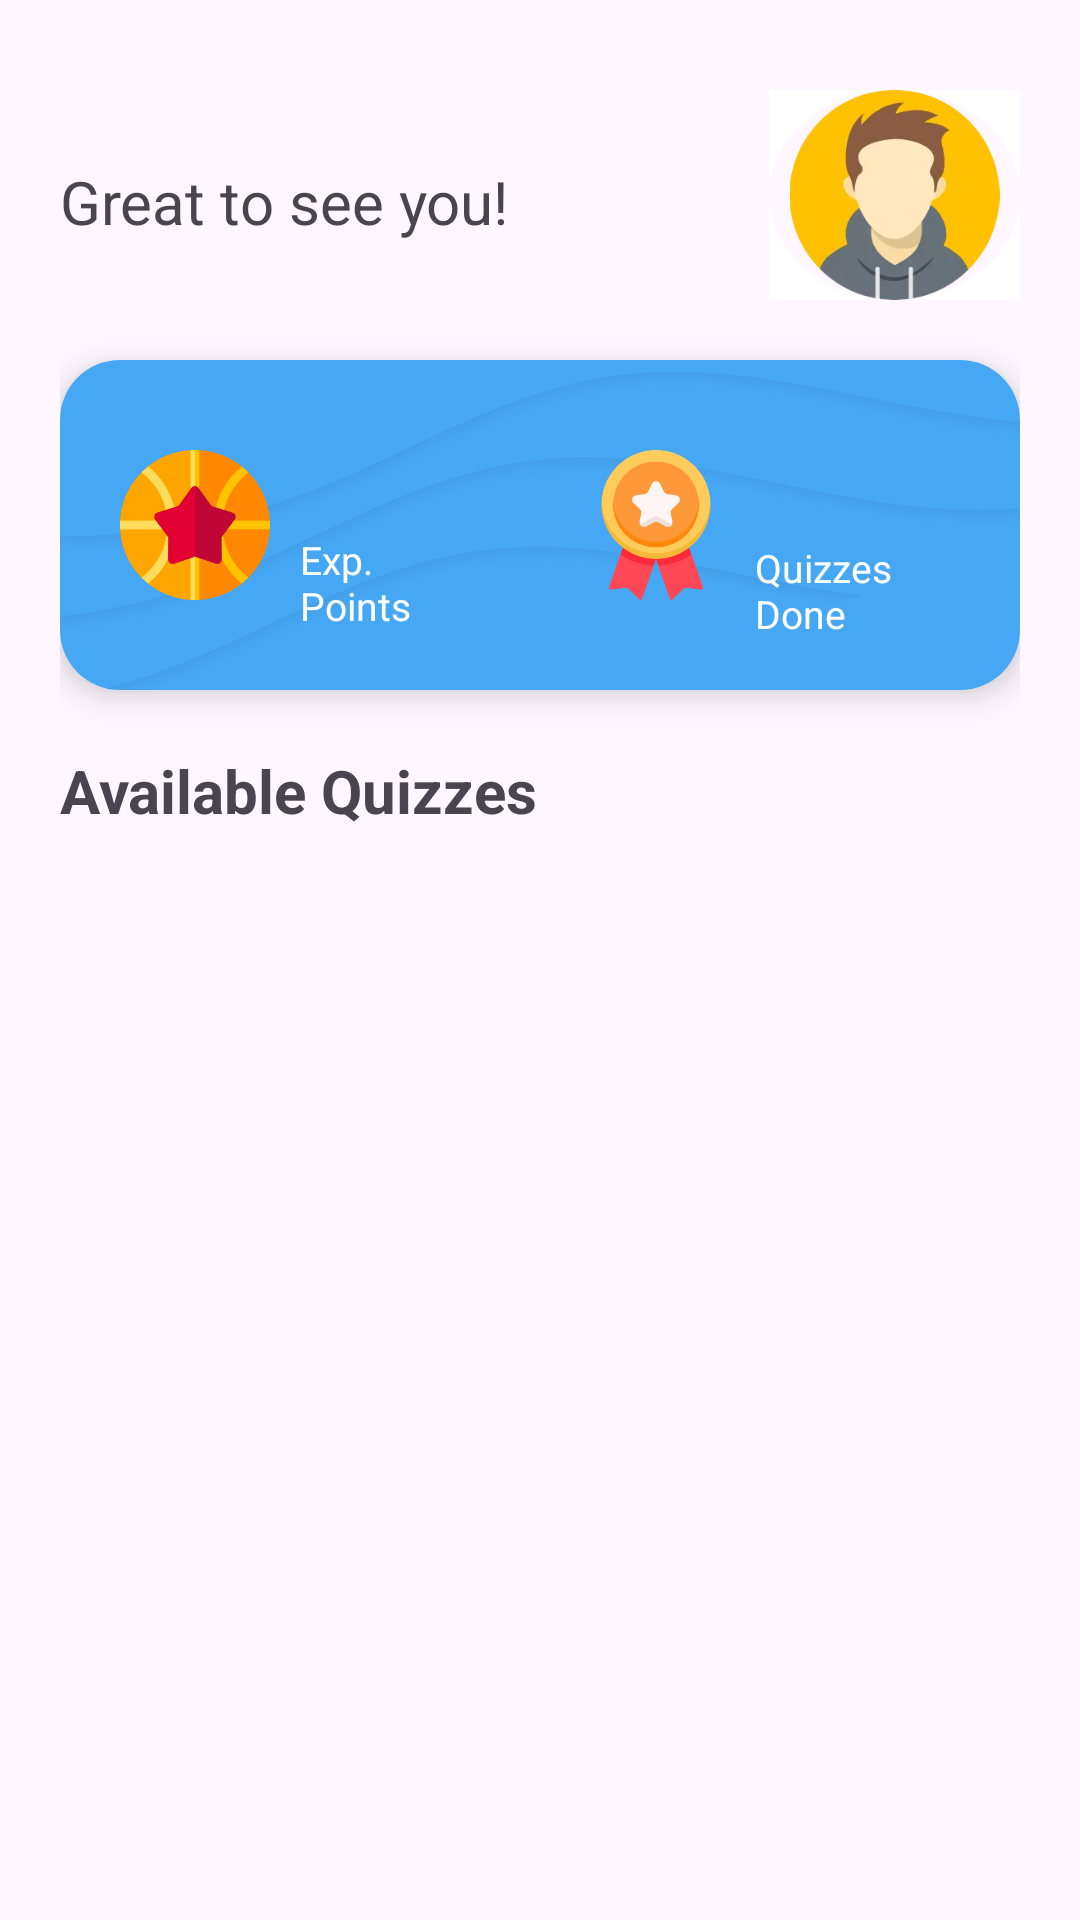

Icons on this 1080*1920 Android screen, each with its box as (x1, y1, x2, y2):
reward: (601, 450, 711, 600)
